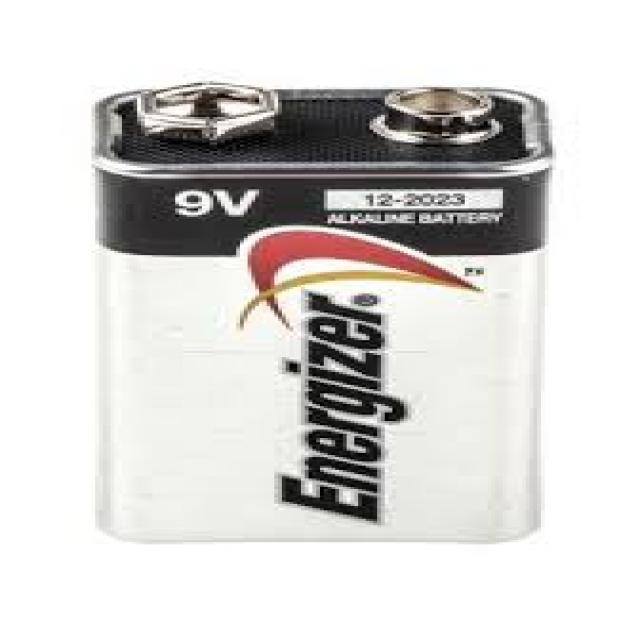battery: (82, 81, 553, 545)
